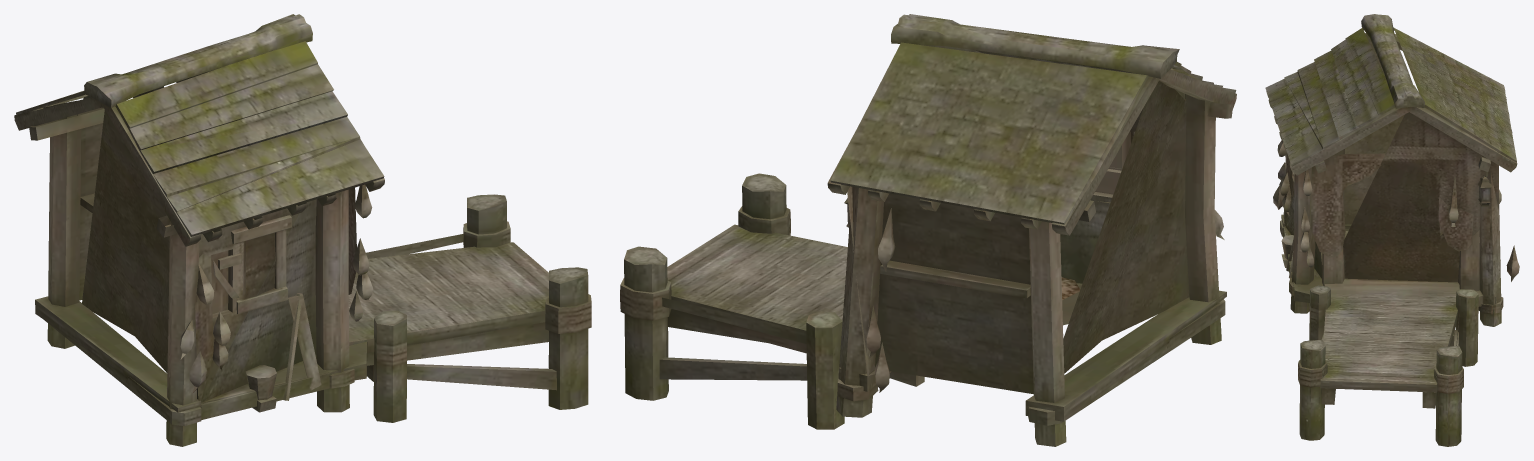
File: fishing_hut.glb
The picture shows the model from 3 angles, left to right: view 1: azimuth 30°, elevation 25°; view 2: azimuth 150°, elevation 25°; view 3: azimuth 270°, elevation 25°; orthographic projection. The views are drawn at different scales.
Parts seen in each view (by area): view 1: tripo_node_55b0b209-b4f6-4e33-8df9-e93ba608ca5d; view 2: tripo_node_55b0b209-b4f6-4e33-8df9-e93ba608ca5d; view 3: tripo_node_55b0b209-b4f6-4e33-8df9-e93ba608ca5d.
Boxes of the visible parts, <box> form: tripo_node_55b0b209-b4f6-4e33-8df9-e93ba608ca5d: <box>14,14,591,446</box>; tripo_node_55b0b209-b4f6-4e33-8df9-e93ba608ca5d: <box>620,14,1236,446</box>; tripo_node_55b0b209-b4f6-4e33-8df9-e93ba608ca5d: <box>1265,14,1519,446</box>.
Size of the model in its own units: 1 by 0.8016 by 0.6717.
1 material, 1 textured.
